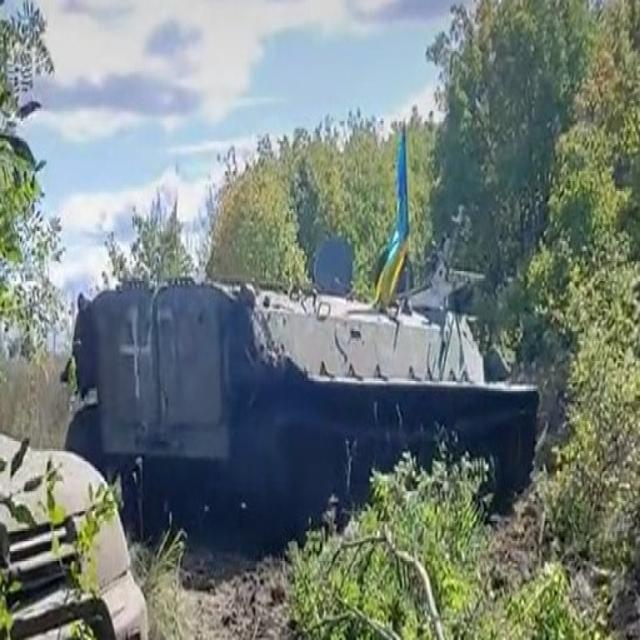APC-IFV: (66, 249, 542, 555)
